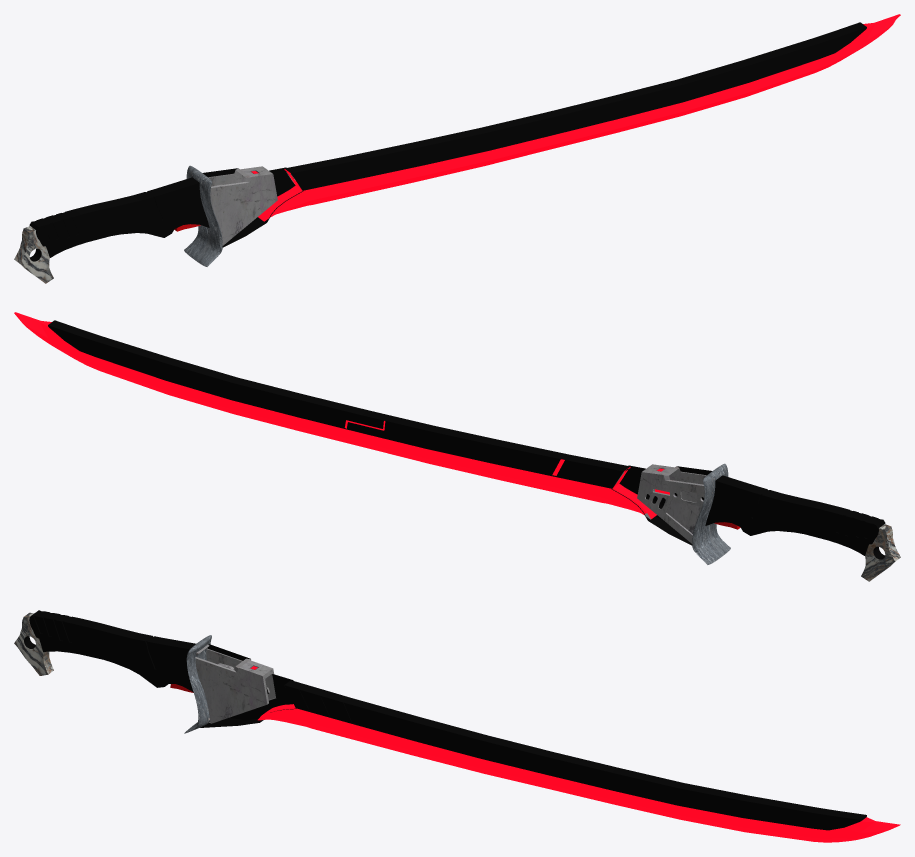
Rendered from red cyber katana.fbx.
3 renders of one model, top to bottom at view 1: azimuth 30°, elevation 25°; view 2: azimuth 150°, elevation 25°; view 3: azimuth 330°, elevation 25°, orthographic.
Parts seen in each view (by area): view 1: red katana; view 2: red katana; view 3: red katana.
Part boxes in pixels (box(x1,y1,x2,y2)): red katana: box(14, 14, 900, 283); red katana: box(14, 312, 900, 581); red katana: box(14, 610, 900, 842).
Bounding box in the file's own units: 493 × 46.06 × 22.71.
Materials: 10 (3 with a texture image).
